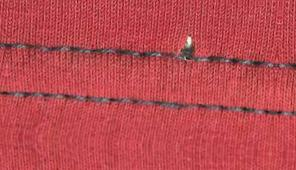hole: (173, 29, 201, 55)
